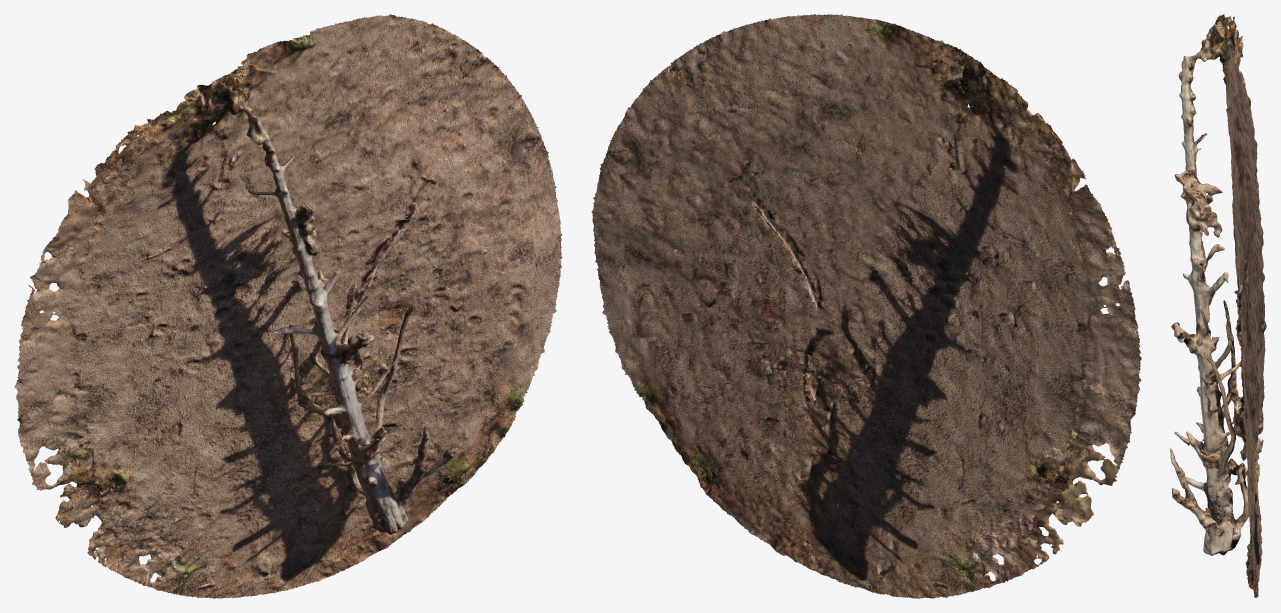
File: Mossy Tree.obj
The picture shows the model from 3 angles, left to right: view 1: azimuth 30°, elevation 25°; view 2: azimuth 150°, elevation 25°; view 3: azimuth 270°, elevation 25°; orthographic projection. The views are drawn at different scales.
Bounding box in the file's own units: 17.22 × 16.95 × 2.78.
1 material, 1 textured.
